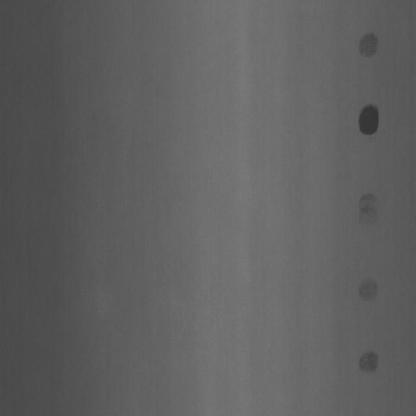oil_spot: (355, 192, 381, 233), (355, 270, 381, 305), (358, 101, 382, 138), (356, 346, 384, 376), (358, 29, 382, 62)
